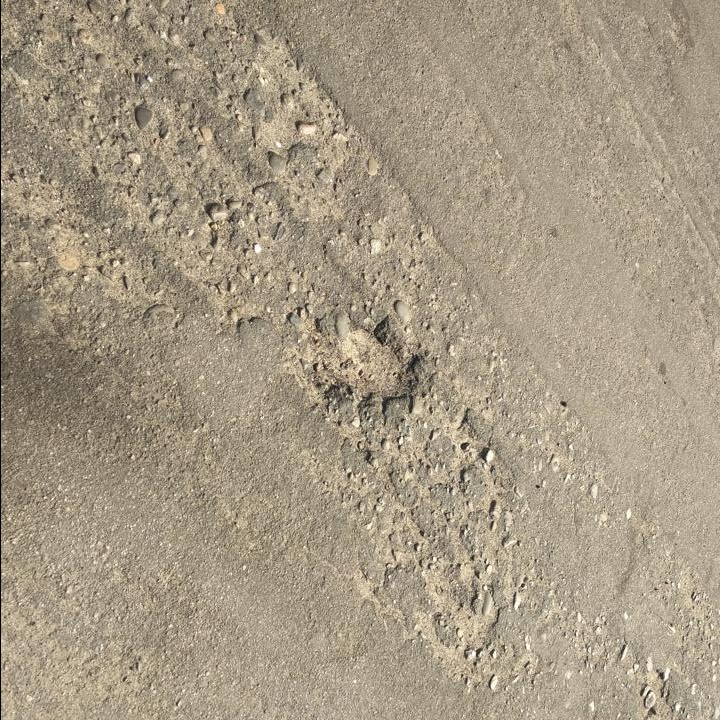pothole: (303, 311, 423, 409), (442, 411, 501, 478)
